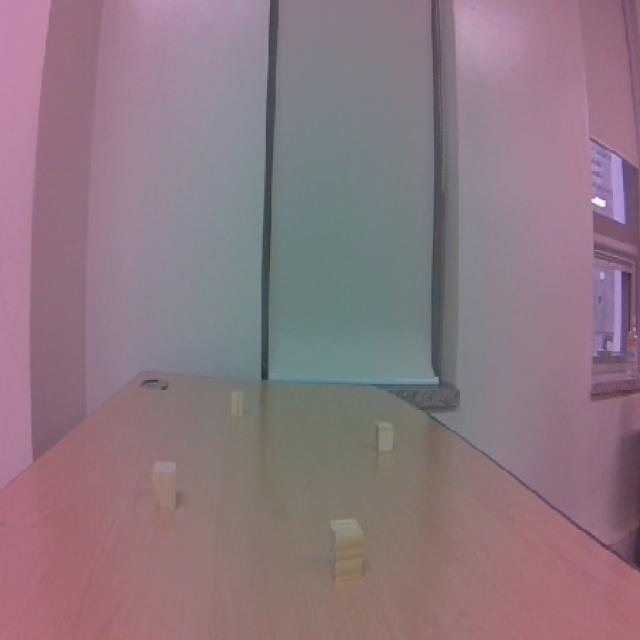obstacle: (316, 507, 374, 593), (144, 450, 184, 508), (367, 415, 402, 459)
